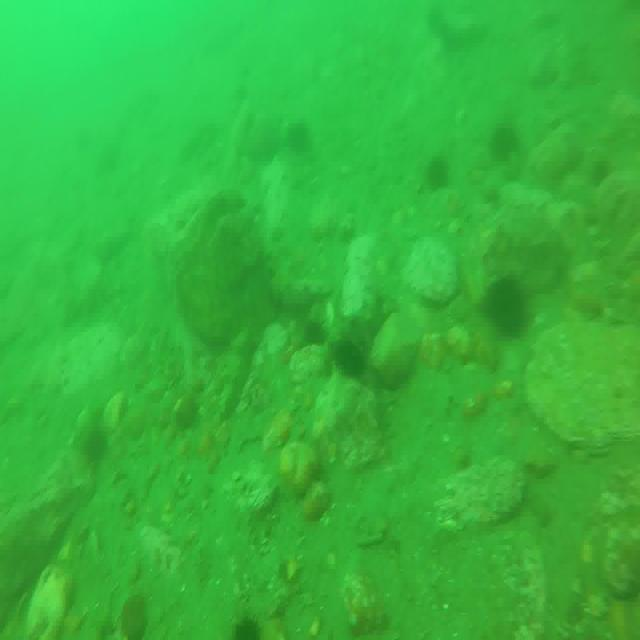echinus: (487, 278, 529, 336), (334, 336, 368, 380), (287, 116, 316, 155), (490, 123, 518, 162), (428, 160, 452, 194), (234, 617, 261, 640)
